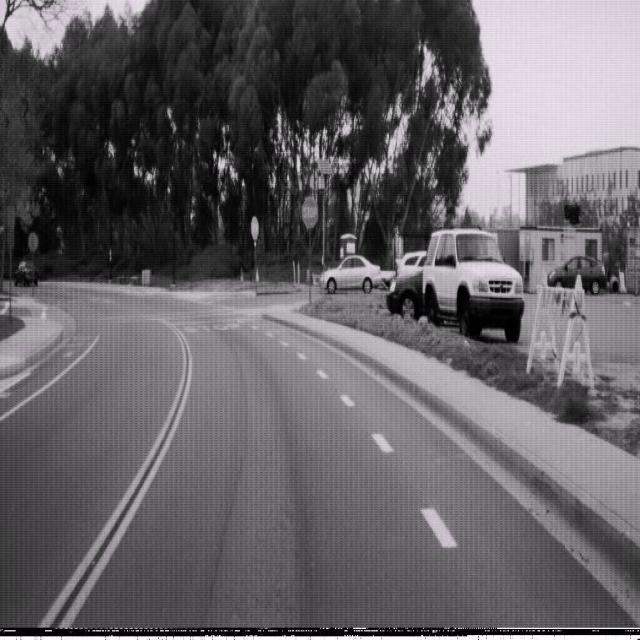stop_sign: (301, 195, 318, 229), (250, 214, 259, 242)
